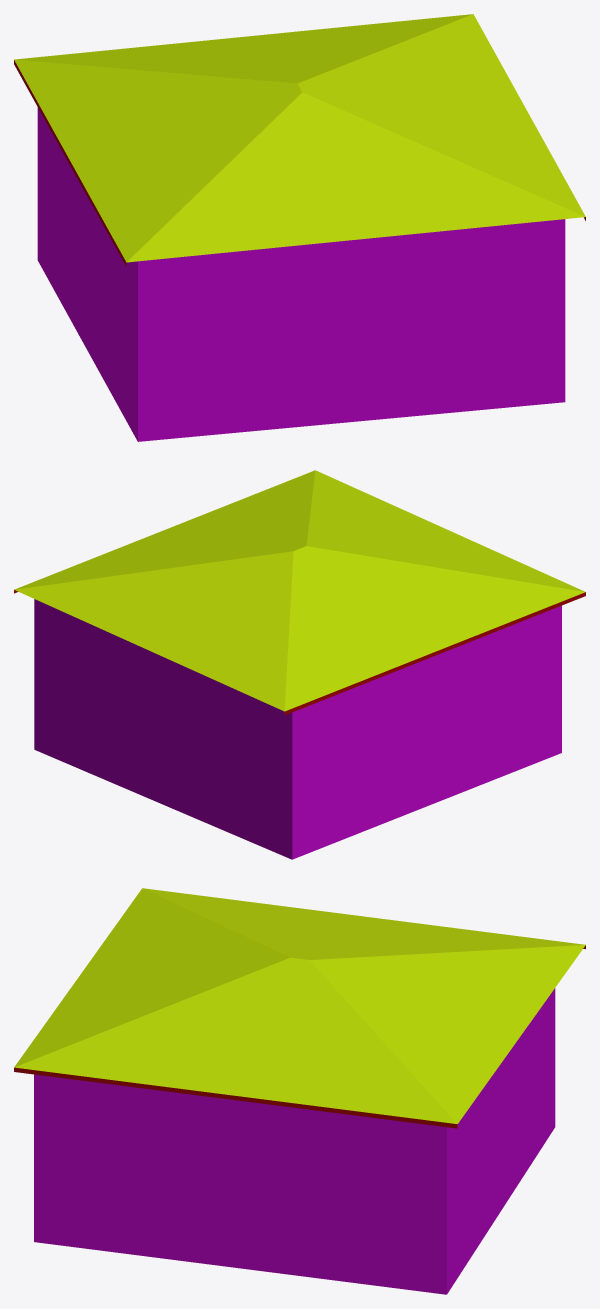
The model's file is bgj_62.glb.
The picture shows the model from 3 angles, top to bottom: view 1: azimuth 30°, elevation 25°; view 2: azimuth 150°, elevation 25°; view 3: azimuth 270°, elevation 25°; orthographic projection. The views are drawn at different scales.
Visible parts, largest first — view 1: bgj_62; view 2: bgj_62; view 3: bgj_62.
Part boxes in pixels (box(x1,y1,x2,y2)): bgj_62: box(14, 14, 585, 441); bgj_62: box(14, 470, 585, 859); bgj_62: box(14, 888, 585, 1294).
Bounding box in the file's own units: 13.84 × 6.19 × 14.17.
